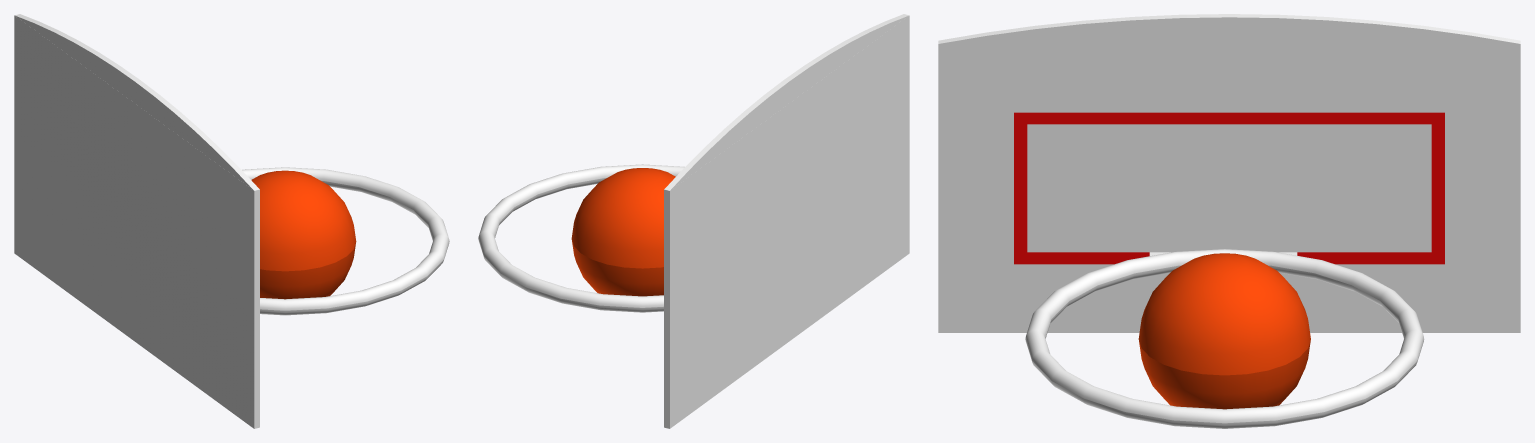
File: Basketball.dae
The picture shows the model from 3 angles, left to right: view 1: azimuth 30°, elevation 25°; view 2: azimuth 150°, elevation 25°; view 3: azimuth 270°, elevation 25°; orthographic projection. The views are drawn at different scales.
Visible parts, largest first — view 1: SketchUp (×2), Component_1; view 2: SketchUp (×2), Component_1; view 3: SketchUp (×5), Component_1.
Boxes of the visible parts, <box> form: SketchUp (×2): <box>14,14,449,428</box>; Component_1: <box>251,170,356,299</box>; SketchUp (×2): <box>478,14,909,428</box>; Component_1: <box>571,168,675,296</box>; SketchUp (×5): <box>938,14,1520,428</box>; Component_1: <box>1138,253,1310,409</box>.
Size of the model in its own units: 804 by 1146 by 686.
